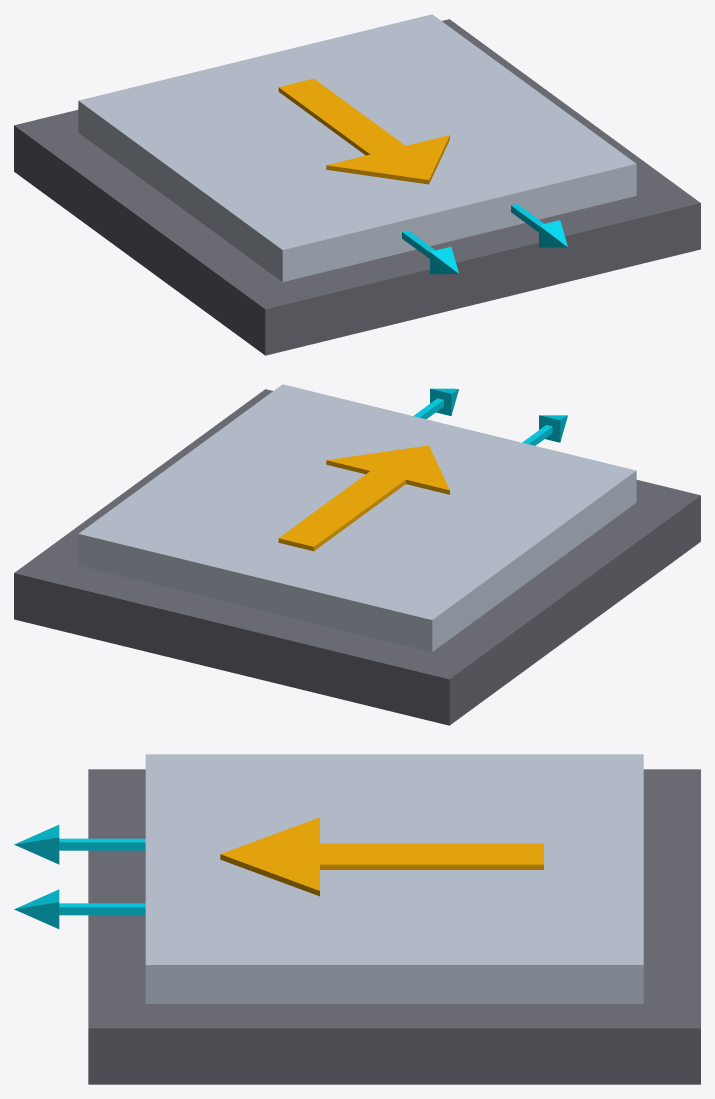
3 renders of one model, top to bottom at view 1: azimuth 30°, elevation 25°; view 2: azimuth 150°, elevation 25°; view 3: azimuth 270°, elevation 25°, orthographic. The views are drawn at different scales.
Parts seen in each view (by area): view 1: frame, bumpers, front, camera two, camera one; view 2: frame, bumpers, front, camera one, camera two; view 3: frame, bumpers, front, camera one, camera two.
Part boxes in pixels (bbox=[...]): frame: bbox=[78, 14, 636, 281]; bumpers: bbox=[14, 19, 700, 355]; front: bbox=[278, 78, 449, 184]; camera two: bbox=[402, 230, 458, 274]; camera one: bbox=[511, 204, 567, 247]; frame: bbox=[78, 384, 636, 651]; bumpers: bbox=[14, 389, 700, 725]; front: bbox=[278, 445, 449, 551]; camera one: bbox=[413, 388, 458, 419]; camera two: bbox=[522, 415, 567, 445]; frame: bbox=[145, 754, 643, 1003]; bumpers: bbox=[88, 769, 700, 1084]; front: bbox=[220, 817, 543, 896]; camera one: bbox=[14, 889, 145, 928]; camera two: bbox=[14, 825, 145, 864].
Bounding box in the file's own units: 0.8128 × 0.2212 × 0.9112.
